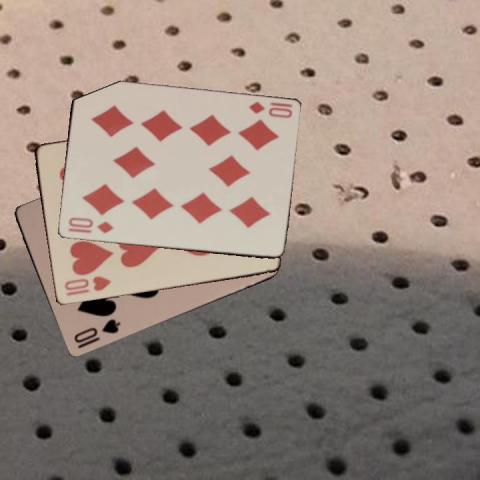10d: (65, 214, 114, 235), (245, 99, 294, 120)
10h: (61, 274, 112, 298)
10s: (71, 316, 121, 345)
